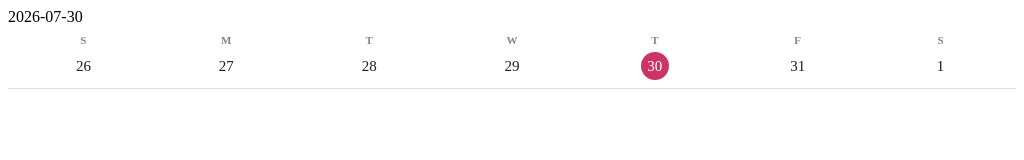
Test case: WeekStrip › tapping a day updates the shared selectedDate
The image size is (1024, 160).
Click the button "M 27": (226, 57) [155,34,298,80]
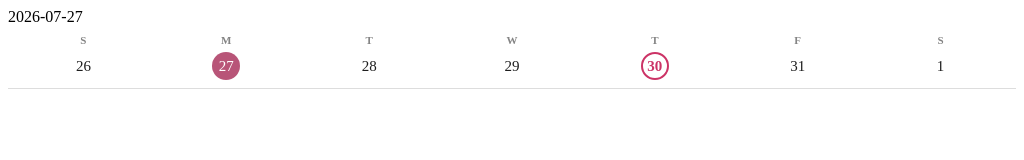
Result: the text with test id "selected-date" reads "2026-07-27" at [8,8,83,25]
